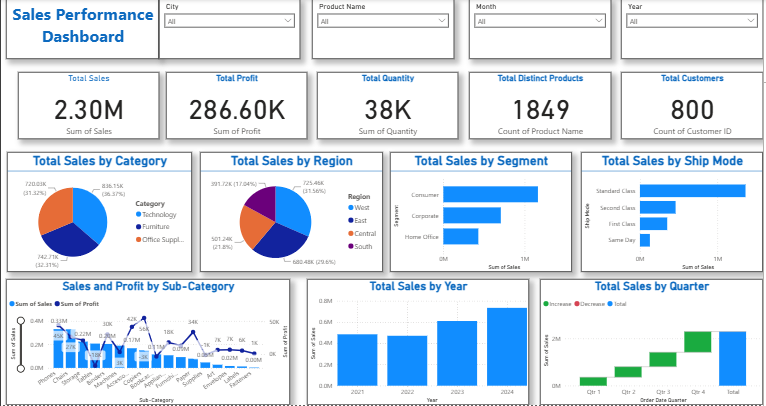

The page's visual inventory and layout, read from the dashboard file:
{"tool":"powerbi","page":{"name":"Page 1","canvas":[1500,800],"ordinal":0},"visuals":[{"type":"textbox","box":[9.8,0,301.2,118.1],"z":0},{"type":"slicer","fields":{"Values":["Sales Data.City"]},"box":[311,0,277.6,118.1],"z":1000},{"type":"slicer","fields":{"Values":["Sales Data.Product Name"]},"box":[612.2,0,279.5,118.1],"z":2000},{"type":"slicer","fields":{"Values":["Sales Data.Order Date.Variation.Date Hierarchy.Month"]},"box":[921.3,0,279.5,118.1],"z":3000},{"type":"slicer","fields":{"Values":["Sales Data.Order Date.Variation.Date Hierarchy.Year"]},"box":[1220.5,0,279.5,118.1],"z":4000},{"type":"card","title":"Total Sales","fields":{"Values":["Sum(Sales Data.Sales)"]},"box":[33.5,143.7,277.6,131.9],"z":5000},{"type":"card","title":"Total Profit","fields":{"Values":["Sum(Sales Data.Profit)"]},"box":[324.8,143.7,277.6,131.9],"z":6000},{"type":"card","title":"Total Quantity","fields":{"Values":["Sum(Sales Data.Quantity)"]},"box":[622,143.7,277.6,131.9],"z":7000},{"type":"card","title":"Total Distinct Products","fields":{"Values":["Count(Sales Data.Product Name)"]},"box":[921.3,143.7,279.5,131.9],"z":8000},{"type":"card","title":"Total Customers","fields":{"Values":["Count(Sales Data.Customer ID)"]},"box":[1220.5,143.7,279.5,131.9],"z":9000},{"type":"pieChart","title":"Total Sales by Category","fields":{"Y":["Sum(Sales Data.Sales)"],"Category":["Sales Data.Category"]},"box":[11.8,301.2,364.2,236.2],"z":10000},{"type":"pieChart","title":"Total Sales by Region","fields":{"Y":["Sum(Sales Data.Sales)"],"Category":["Sales Data.Region"]},"box":[391.7,301.2,360.2,236.2],"z":11000},{"type":"barChart","title":"Total Sales by Segment","fields":{"Category":["Sales Data.Segment"],"Y":["Sum(Sales Data.Sales)"]},"box":[765.7,301.2,358.3,236.2],"z":12000},{"type":"barChart","title":"Total Sales by Ship Mode","fields":{"Category":["Sales Data.Ship Mode"],"Y":["Sum(Sales Data.Sales)"]},"box":[1141.7,301.2,358.3,236.2],"z":13000},{"type":"lineClusteredColumnComboChart","title":"Sales and Profit by Sub-Category","fields":{"Category":["Sales Data.Sub-Category"],"Y":["Sum(Sales Data.Sales)"],"Y2":["Sum(Sales Data.Profit)"]},"box":[9.8,551.2,559.1,248],"z":14000},{"type":"columnChart","title":"Total Sales by Year","fields":{"Y":["Sum(Sales Data.Sales)"],"Category":["Sales Data.Order Date.Variation.Date Hierarchy.Year"]},"box":[602.4,551.2,437,248],"z":15000},{"type":"waterfallChart","title":"Total Sales by Quarter","fields":{"Category":["Sales Data.Order Date.Variation.Date Hierarchy.Quarter"],"Y":["Sum(Sales Data.Sales)"]},"box":[1061,551.2,439,248],"z":16000}]}

Visuals, with their boxes in screenshot pixels (x1, y1, x2, y2), scaled from the page's 1500x800 canvas onto the 766x406 screenshot:
textbox: {"left": 5, "top": 0, "right": 159, "bottom": 60}
slicer - Sales Data.City: {"left": 159, "top": 0, "right": 301, "bottom": 60}
slicer - Sales Data.Product Name: {"left": 313, "top": 0, "right": 455, "bottom": 60}
slicer - Sales Data.Order Date.Variation.Date Hierarchy.Month: {"left": 470, "top": 0, "right": 613, "bottom": 60}
slicer - Sales Data.Order Date.Variation.Date Hierarchy.Year: {"left": 623, "top": 0, "right": 765, "bottom": 60}
"Total Sales" card: {"left": 17, "top": 73, "right": 159, "bottom": 140}
"Total Profit" card: {"left": 166, "top": 73, "right": 308, "bottom": 140}
"Total Quantity" card: {"left": 318, "top": 73, "right": 459, "bottom": 140}
"Total Distinct Products" card: {"left": 470, "top": 73, "right": 613, "bottom": 140}
"Total Customers" card: {"left": 623, "top": 73, "right": 765, "bottom": 140}
"Total Sales by Category" pieChart: {"left": 6, "top": 153, "right": 192, "bottom": 273}
"Total Sales by Region" pieChart: {"left": 200, "top": 153, "right": 384, "bottom": 273}
"Total Sales by Segment" barChart: {"left": 391, "top": 153, "right": 574, "bottom": 273}
"Total Sales by Ship Mode" barChart: {"left": 583, "top": 153, "right": 765, "bottom": 273}
"Sales and Profit by Sub-Category" lineClusteredColumnComboChart: {"left": 5, "top": 280, "right": 291, "bottom": 405}
"Total Sales by Year" columnChart: {"left": 308, "top": 280, "right": 531, "bottom": 405}
"Total Sales by Quarter" waterfallChart: {"left": 542, "top": 280, "right": 765, "bottom": 405}
